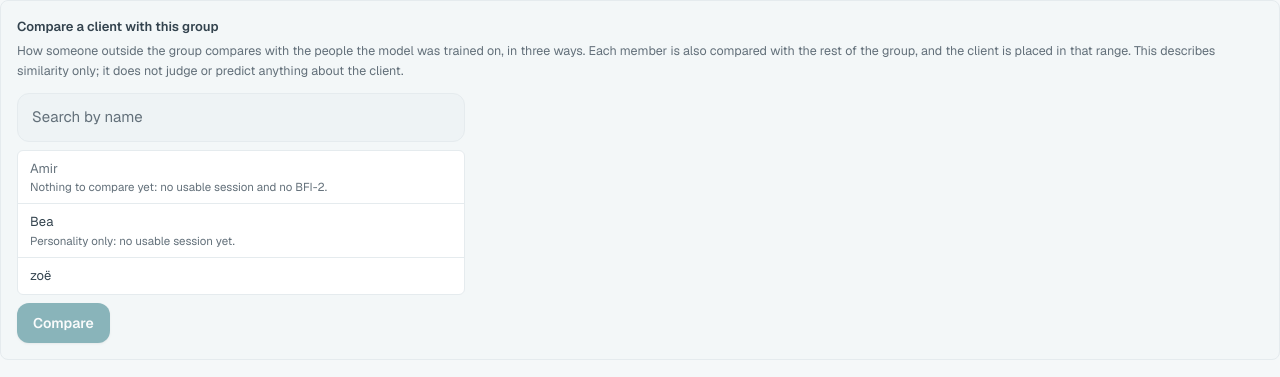
Test: MlGroupFit › lists clients A to Z, searches them, and greys out those with nothing to compare
Check: the list named "Client to compare" is shown, box [17,150,465,295]
Check: the option "Amir Nothing to compare yet: no usable session and no BFI-2." is disabled, box [18,151,464,203]
In the field named "Search clients to compare": (241, 117) [17,93,465,142], type "ZOE"
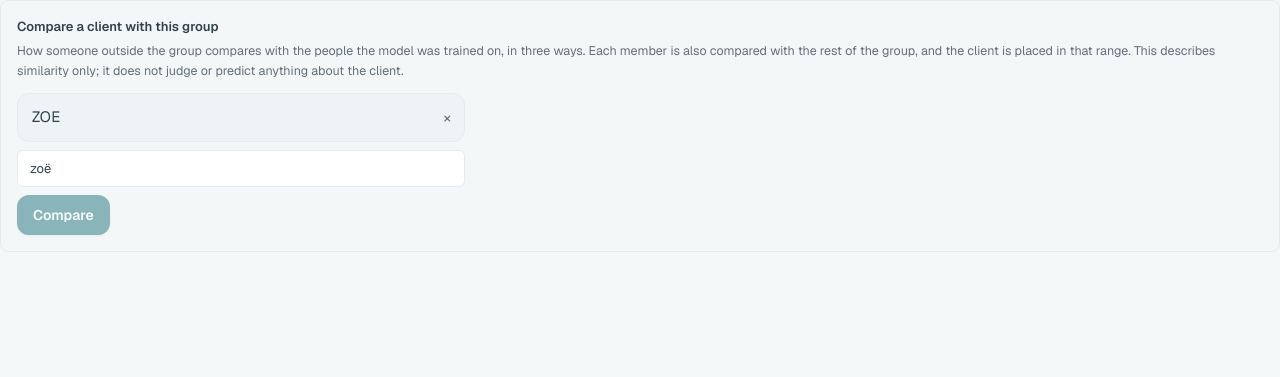
Check: the number of options is 1, box [18,151,464,186]
Replace the text in the field named "Search clients to compare" with "qq": (241, 117) [17,93,465,142]
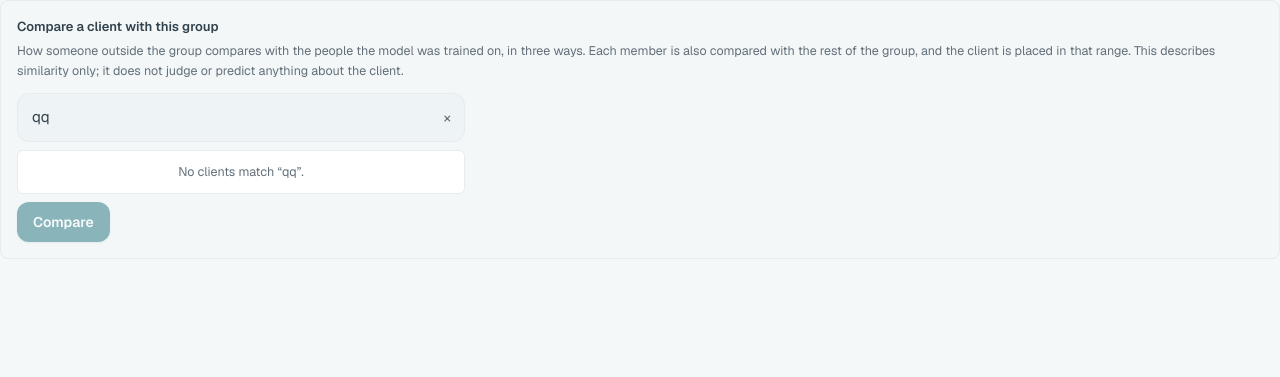
Check: the text "No clients match “qq”." is shown, box [178,163,304,180]
